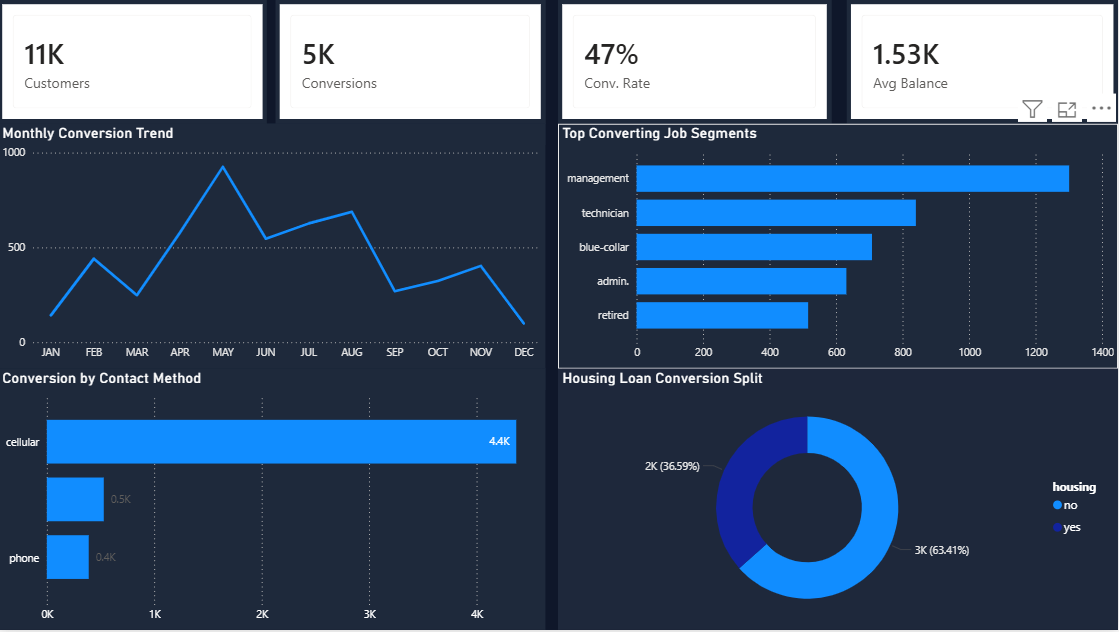

The dashboard page shown, as its layout file describes it:
{"tool":"powerbi","page":{"name":"Page 1","canvas":[1280,720],"ordinal":0},"visuals":[{"type":"textbox","box":[277.1,264.3,12.9,15.7],"z":0},{"type":"textbox","box":[912.9,300,12.9,20],"z":1000},{"type":"cardVisual","fields":{"Data":["bank_cleaned csv.Average Balance"]},"box":[970,0,310,141.4],"z":2000},{"type":"cardVisual","fields":{"Data":["bank_cleaned csv.Conversion Rate"]},"box":[640,0,312.9,141.4],"z":3000},{"type":"cardVisual","fields":{"Data":["bank_cleaned csv.Total Conversions"]},"box":[317.1,0,308.6,141.4],"z":4000},{"type":"clusteredBarChart","title":"Top Converting Job Segments","fields":{"Category":["bank_cleaned csv.job"],"Y":["bank_cleaned csv.Total Conversions"]},"box":[640,141.4,640,280],"z":5000},{"type":"lineChart","title":"Monthly Conversion Trend","fields":{"Y":["bank_cleaned csv.Total Conversions"],"Category":["bank_cleaned csv.Month Display"]},"box":[0,141.4,625.7,280],"z":6000},{"type":"donutChart","title":"Housing Loan Conversion Split","fields":{"Category":["bank_cleaned csv.housing"],"Y":["bank_cleaned csv.Total Conversions"]},"box":[640,421.4,640,298.6],"z":7000},{"type":"clusteredBarChart","title":"Conversion by Contact Method","fields":{"Category":["bank_cleaned csv.contact"],"Y":["bank_cleaned csv.Total Conversions"]},"box":[0,421.4,625.7,298.6],"z":8000},{"type":"cardVisual","fields":{"Data":["bank_cleaned csv.Total Customers"]},"box":[0,0,307.1,141.4],"z":9000}]}

Visuals, with their boxes in screenshot pixels (x1, y1, x2, y2), scaled from the page's 1280x720 canvas onto the 1119x632 screenshot:
textbox: BBox(242, 232, 254, 246)
textbox: BBox(798, 263, 809, 281)
cardVisual - bank_cleaned csv.Average Balance: BBox(848, 0, 1118, 124)
cardVisual - bank_cleaned csv.Conversion Rate: BBox(560, 0, 833, 124)
cardVisual - bank_cleaned csv.Total Conversions: BBox(277, 0, 547, 124)
"Top Converting Job Segments" clusteredBarChart: BBox(560, 124, 1118, 370)
"Monthly Conversion Trend" lineChart: BBox(0, 124, 547, 370)
"Housing Loan Conversion Split" donutChart: BBox(560, 370, 1118, 631)
"Conversion by Contact Method" clusteredBarChart: BBox(0, 370, 547, 631)
cardVisual - bank_cleaned csv.Total Customers: BBox(0, 0, 268, 124)
